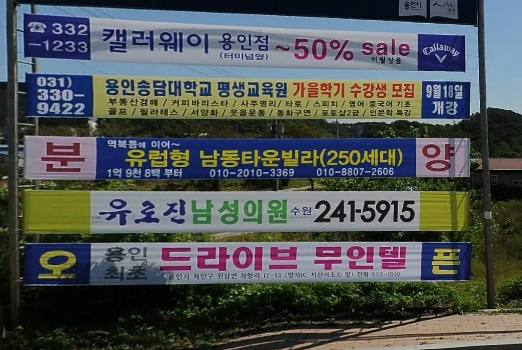banner: (21, 9, 483, 74), (13, 65, 487, 126), (9, 179, 501, 235), (6, 235, 498, 291), (6, 128, 499, 182)
